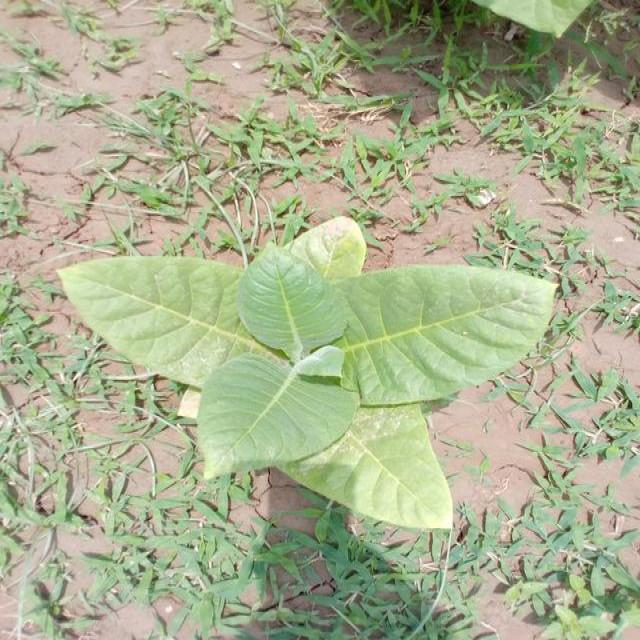crop: (65, 226, 546, 540)
